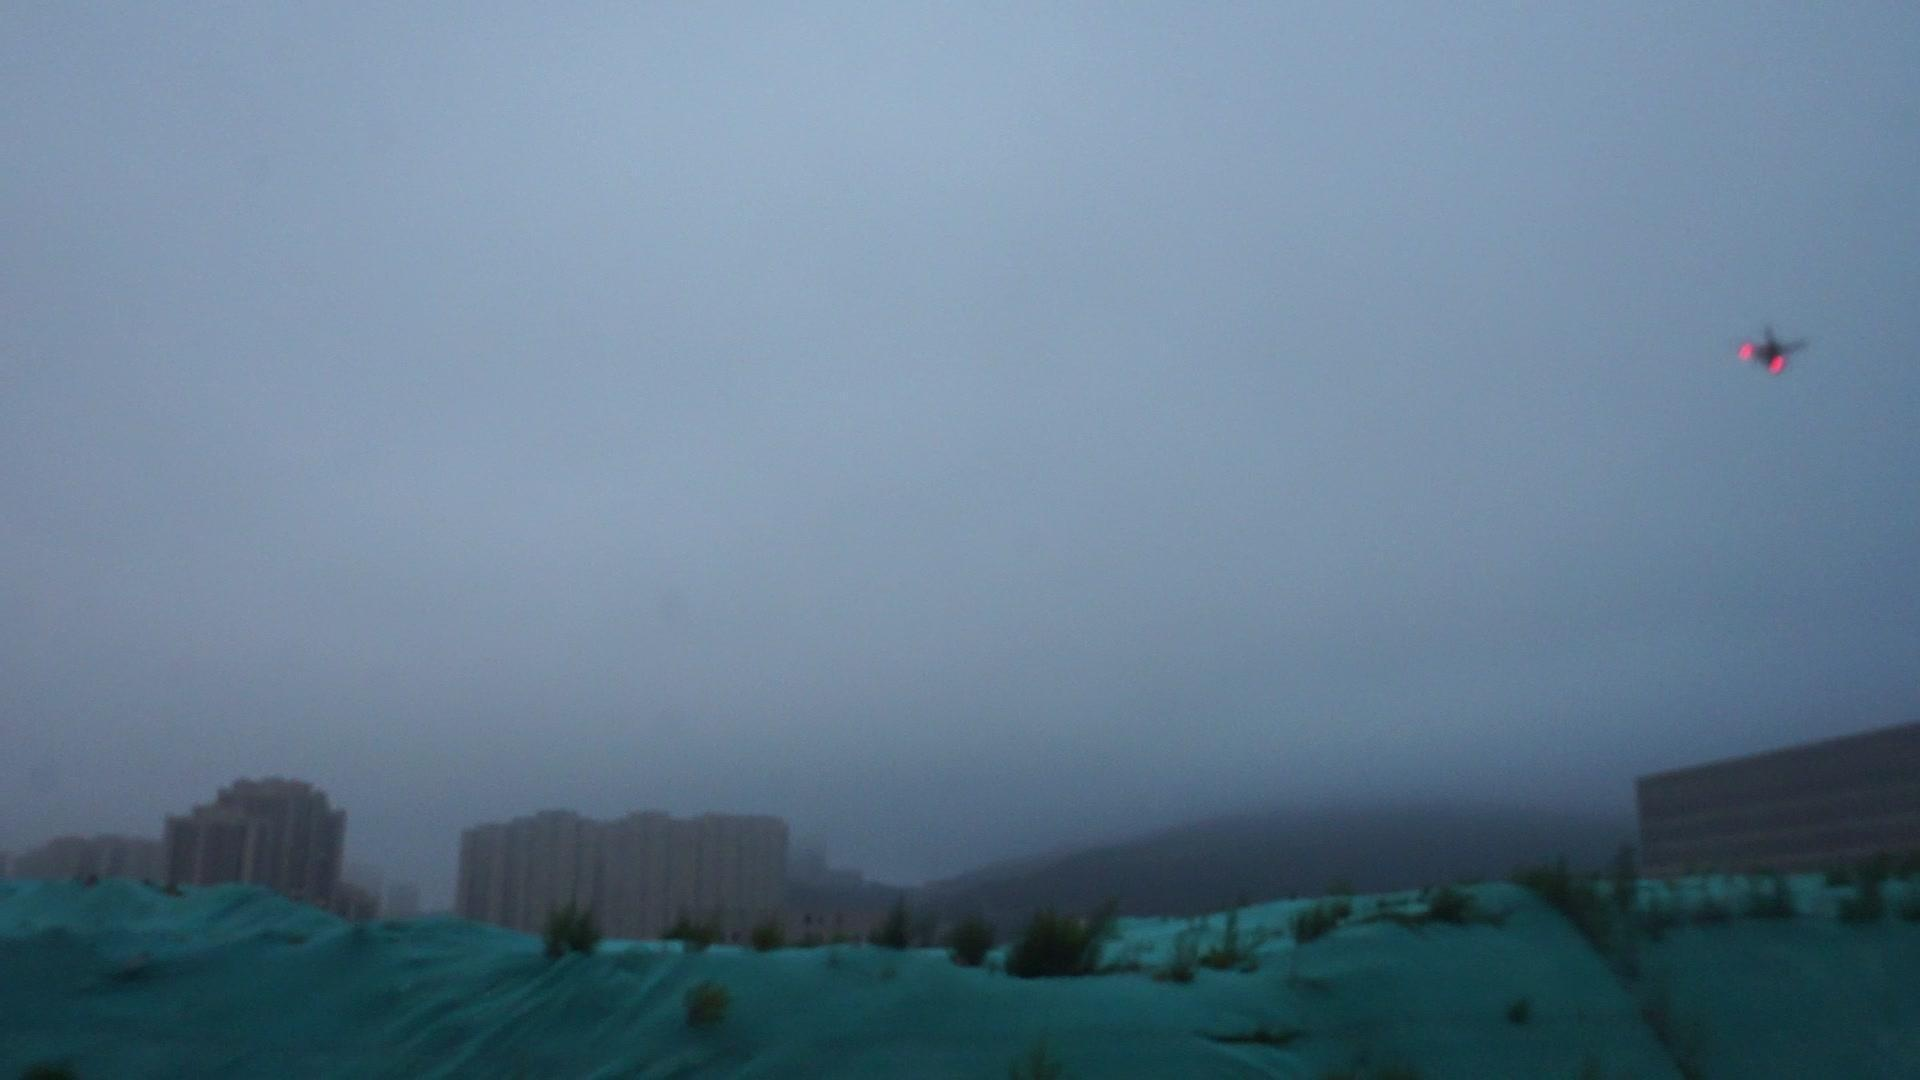UAV: (1737, 328, 1809, 375)
